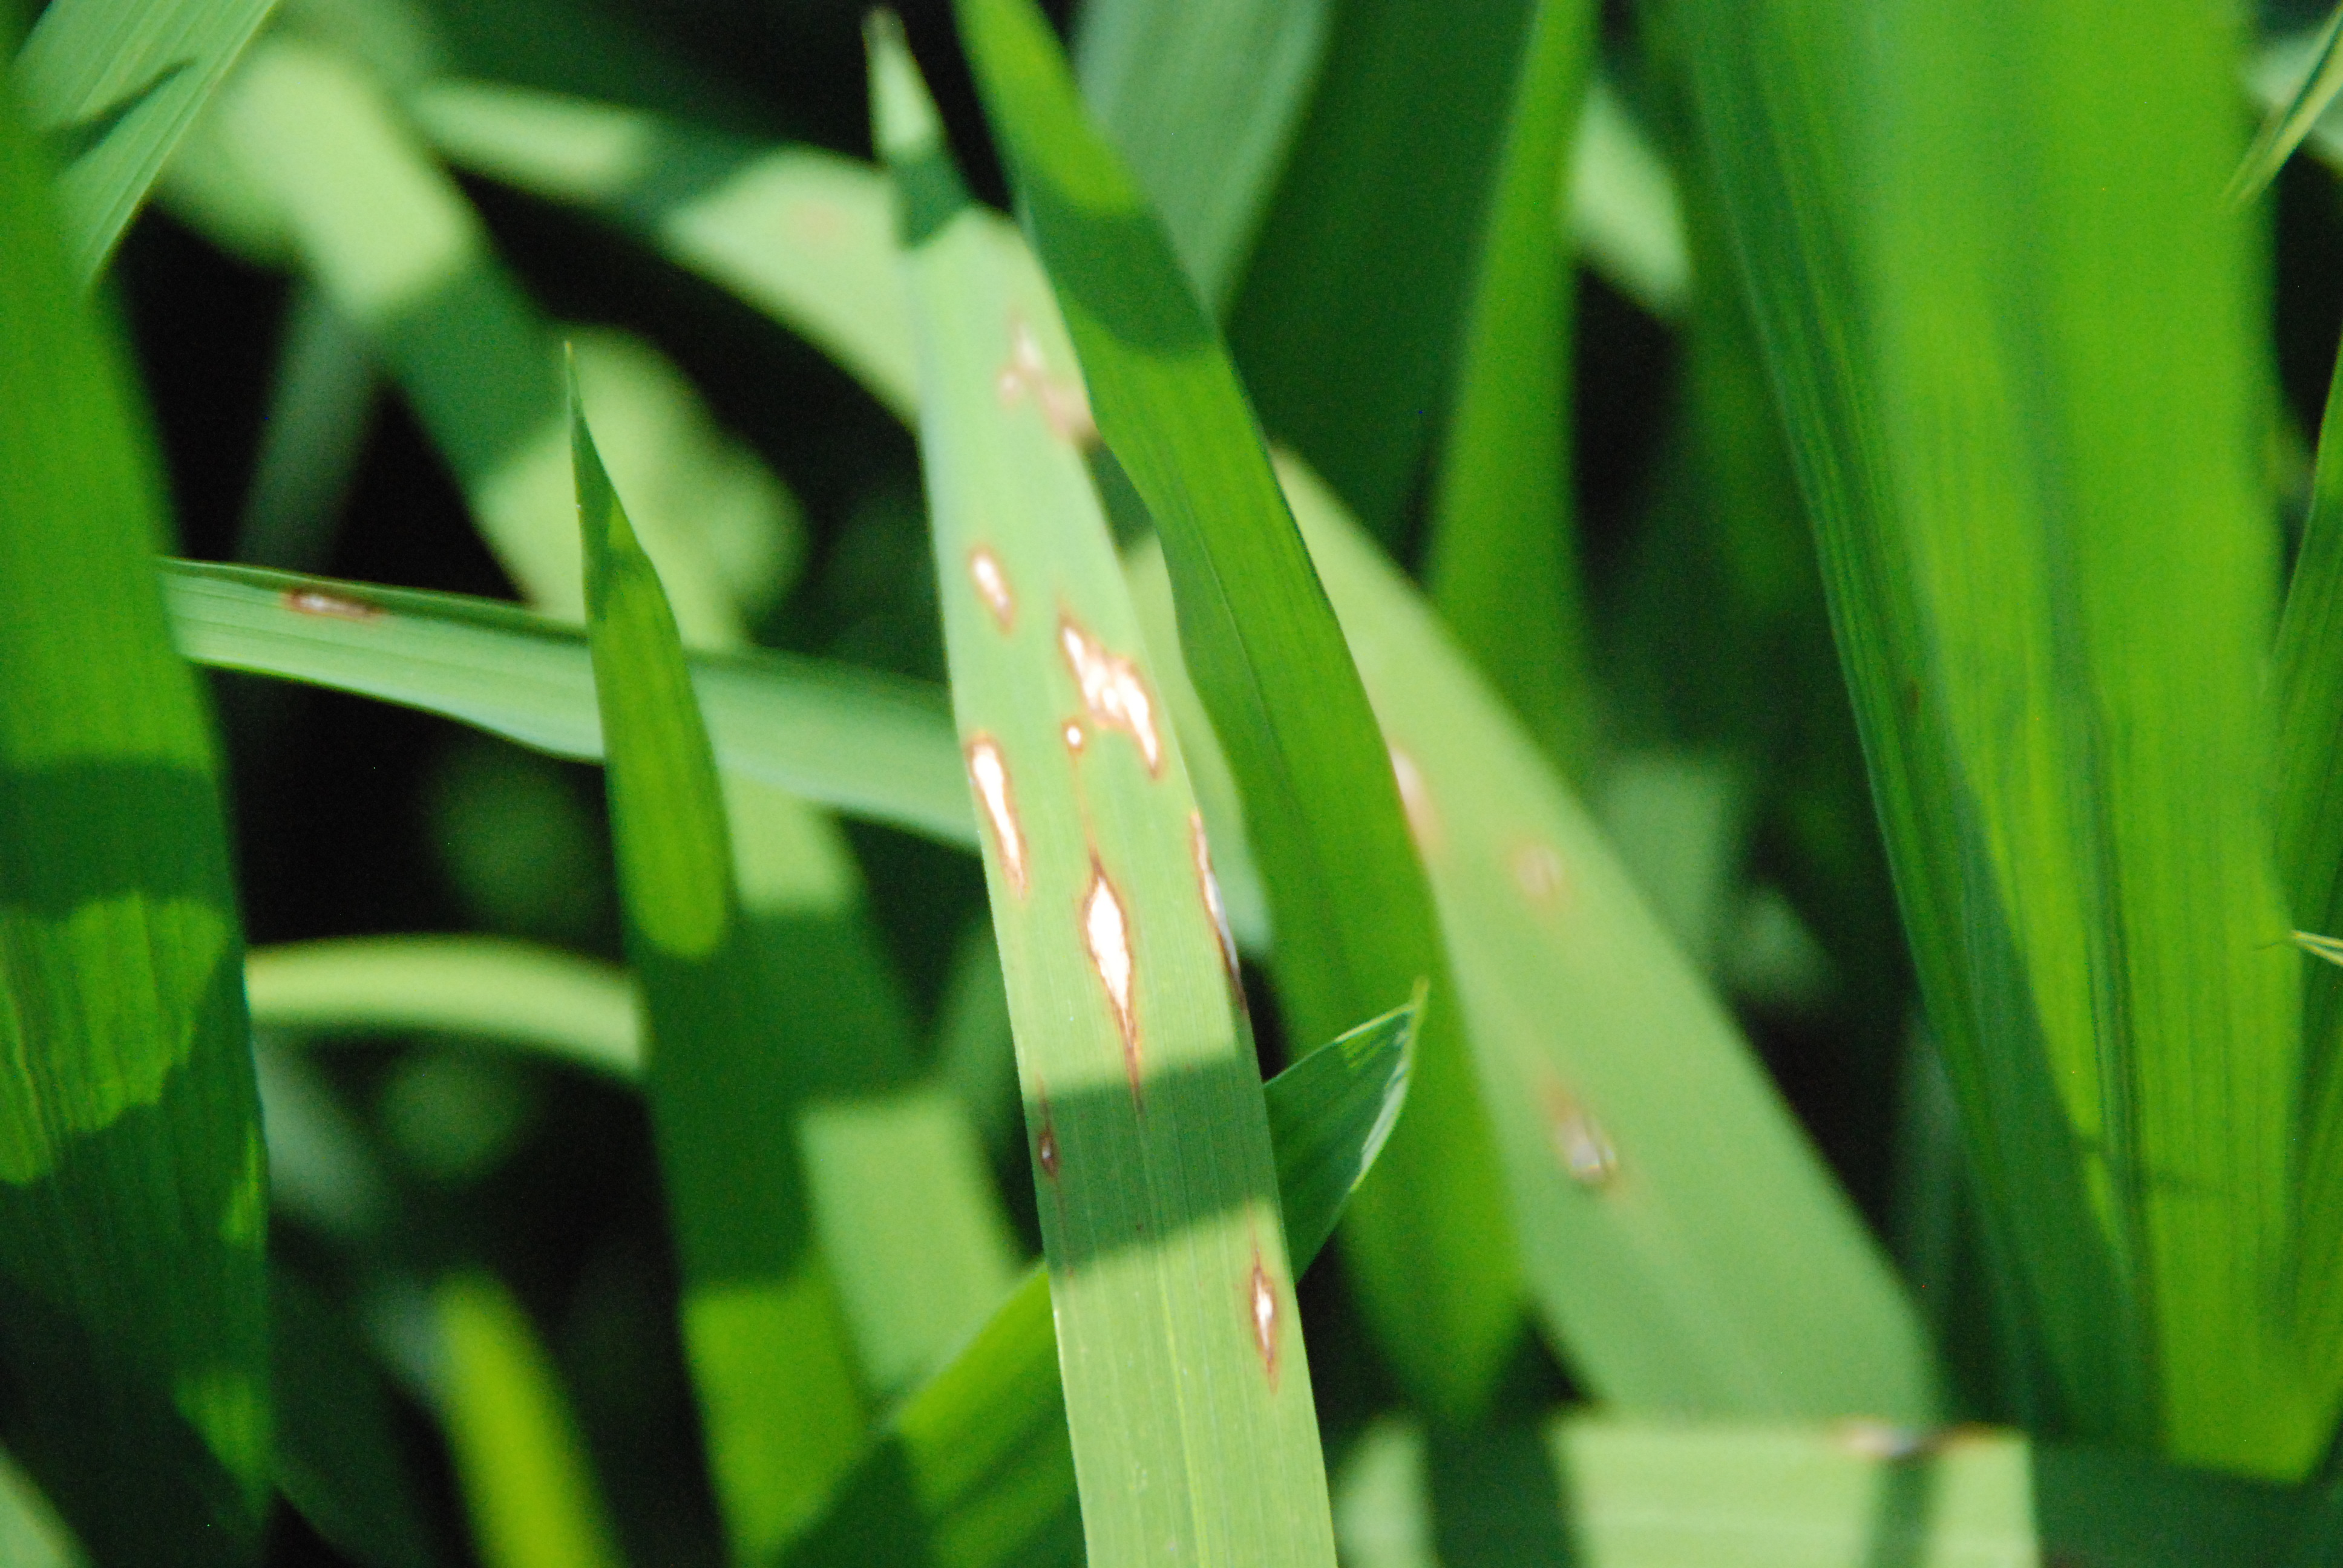Busuk Leher: (1038, 602, 1181, 782), (1057, 856, 1169, 1083), (943, 728, 1034, 891), (1220, 1244, 1295, 1386), (954, 530, 1036, 658), (269, 569, 399, 644), (1018, 1113, 1074, 1197)
